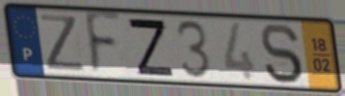3: (175, 18, 213, 80)
4: (221, 20, 258, 83)
F: (83, 9, 125, 79)
S: (258, 22, 305, 86)
Z: (125, 16, 177, 79), (38, 12, 89, 73)
